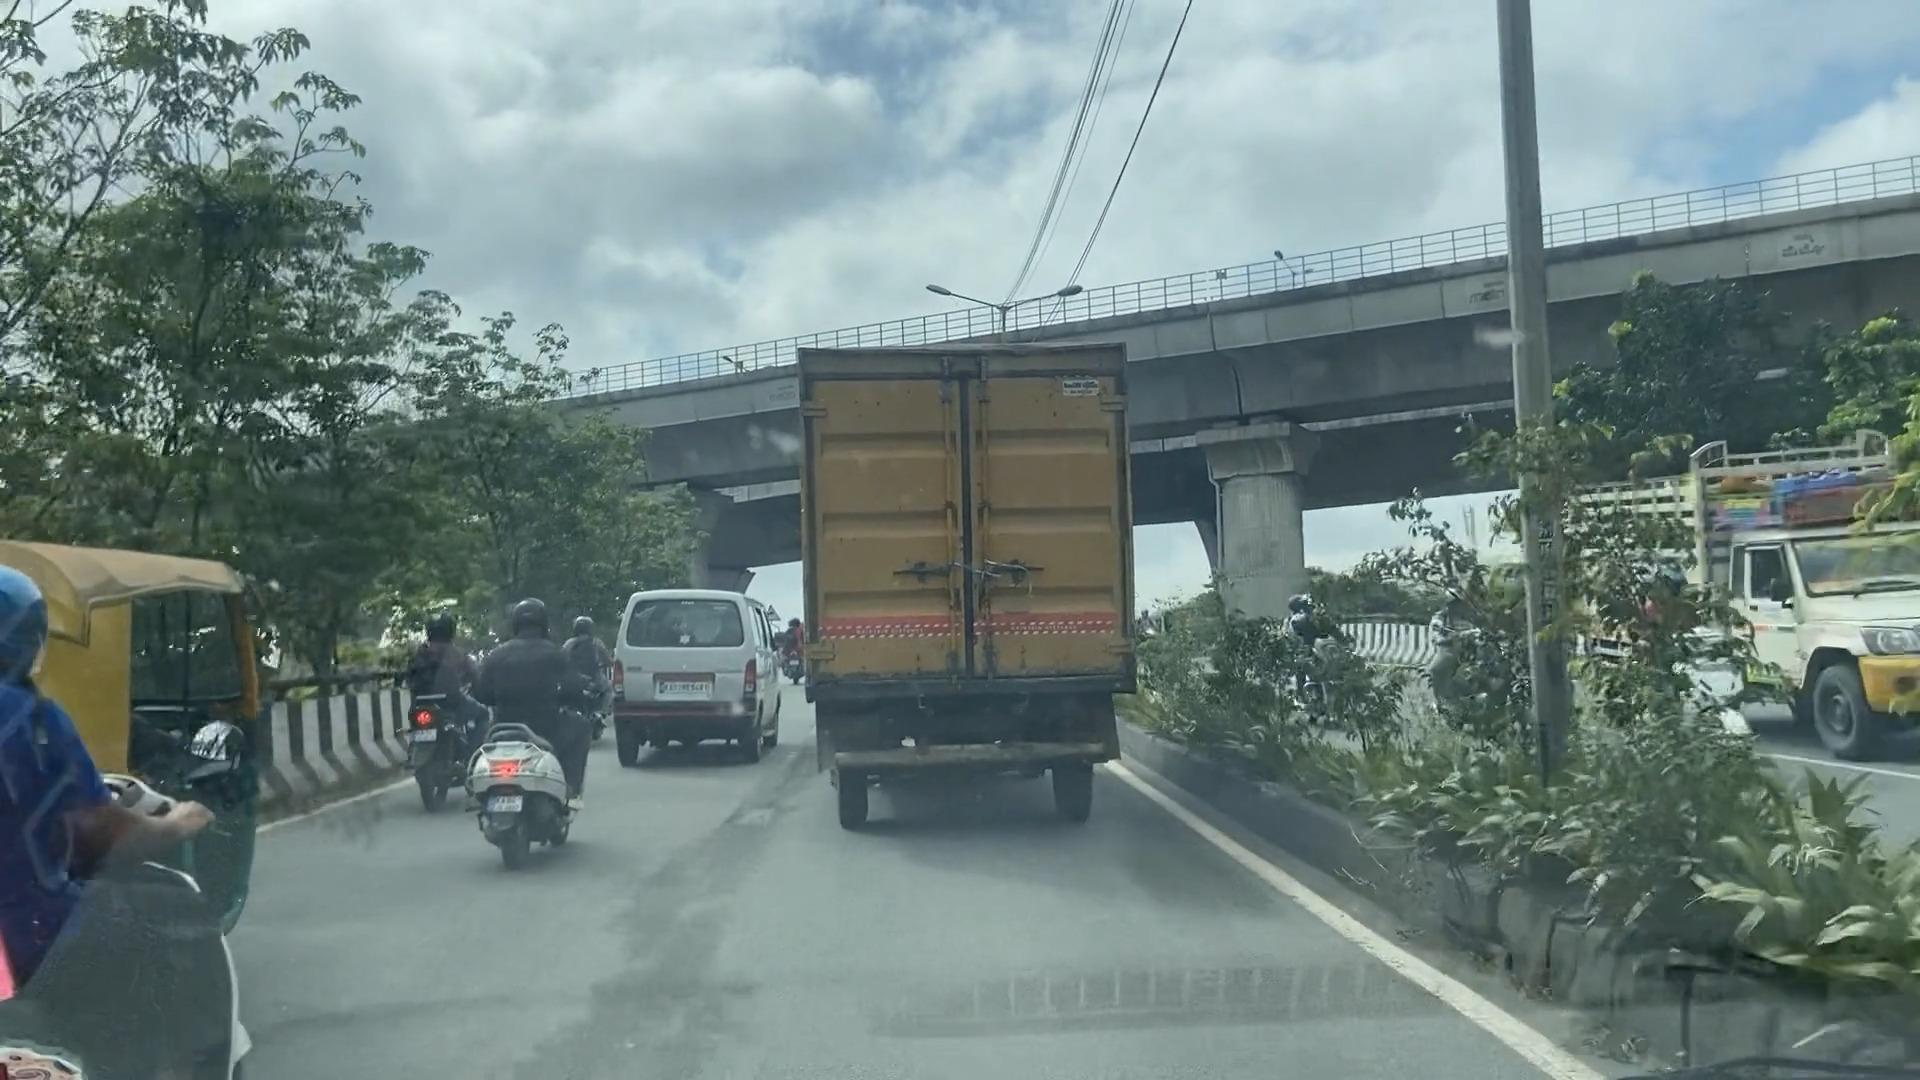HMV: (800, 343, 1118, 827)
LMV: (0, 550, 310, 1080), (476, 600, 588, 858), (617, 587, 760, 765)
